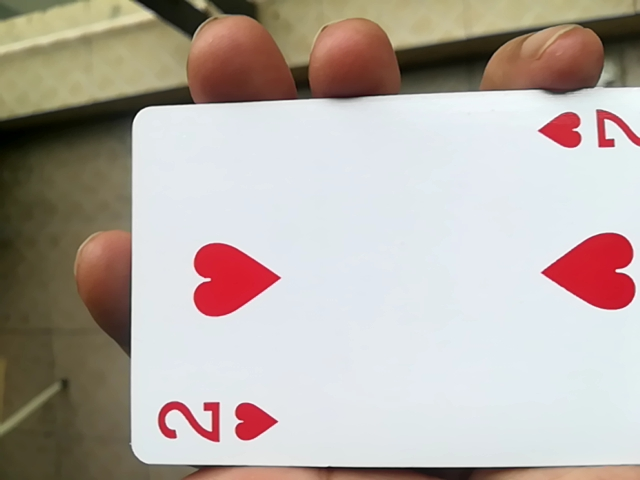hx 2: (115, 97, 637, 480)
